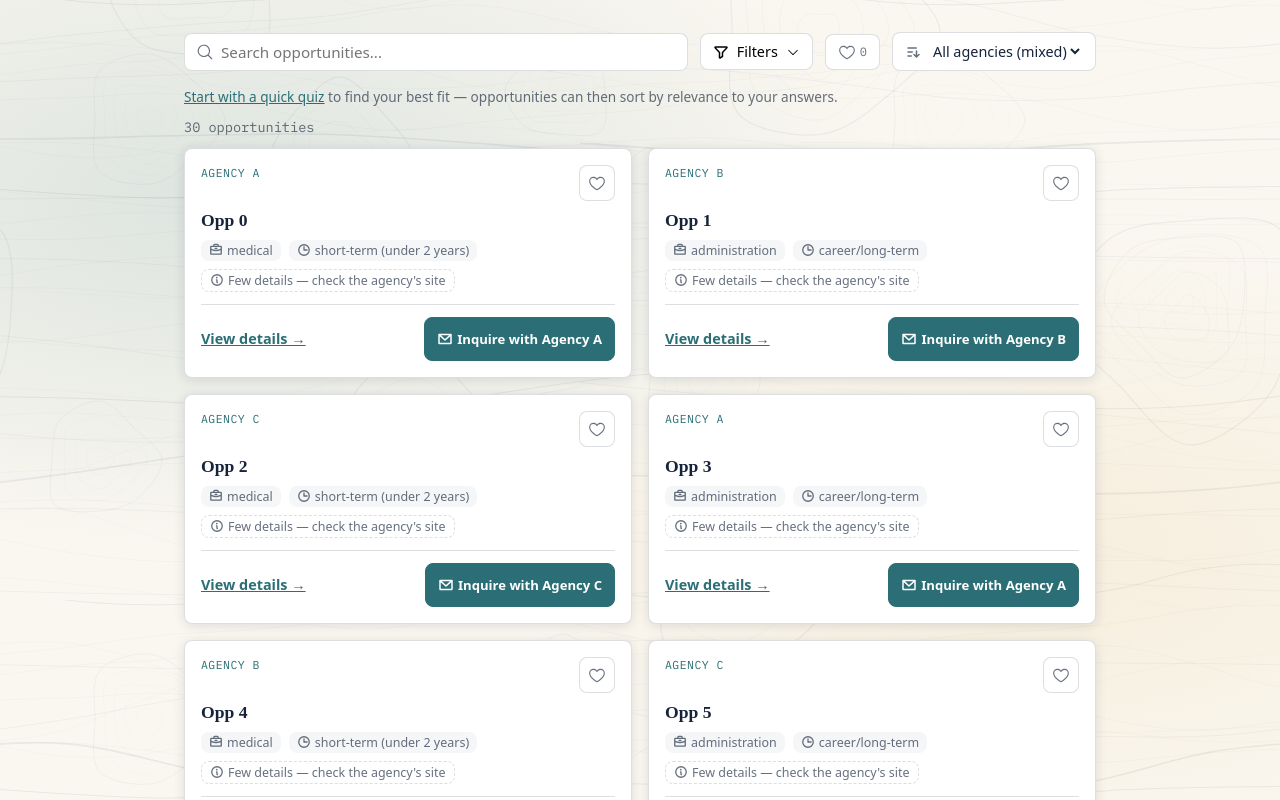
Scenario: OpportunitiesExplorer active-filter chips › a search term also shows as a removable chip
Expected: the heading "Opp 0" is shown, top-left (201, 210), bottom-right (248, 230)
Step 1. Type "Opp 1" into the search field with placeholder "Search opportunities..." → (436, 52), box top-left (184, 32), bottom-right (688, 70)
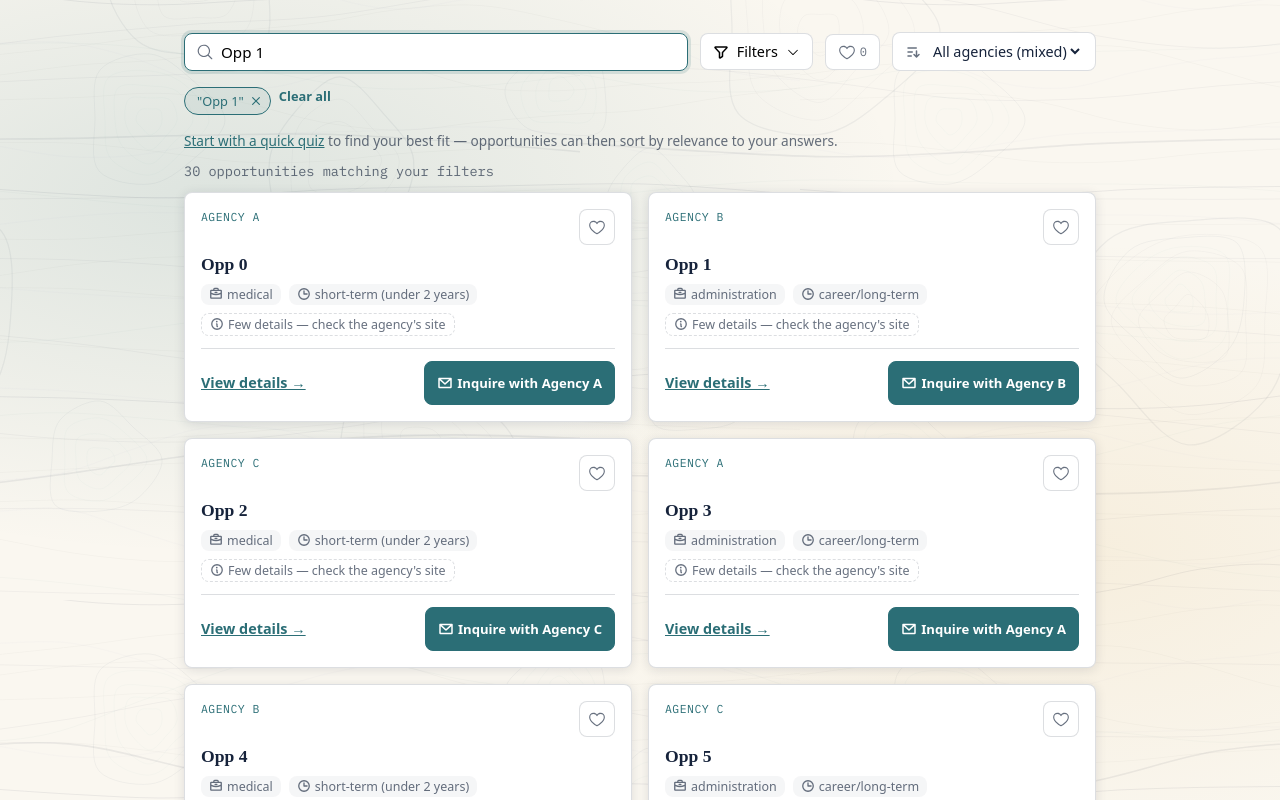
Expected: the element named "Active filters" is shown, top-left (184, 87), bottom-right (331, 115)
Expected: the text "\"Opp 1\"" is shown, top-left (197, 92), bottom-right (244, 110)
